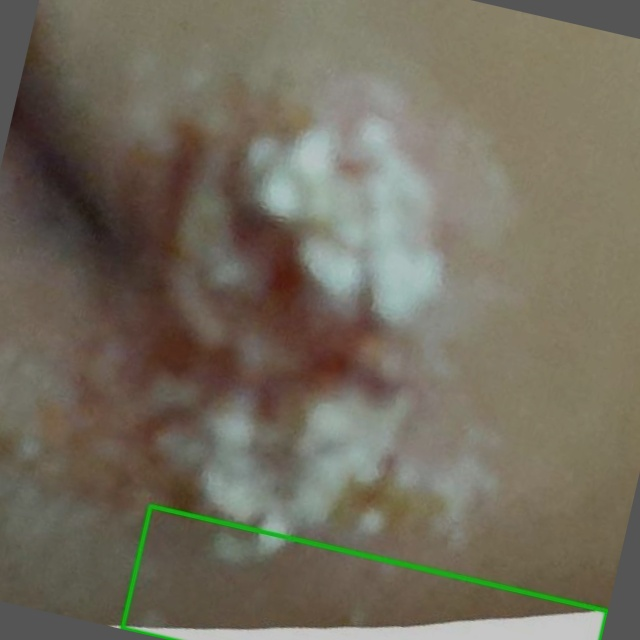Eczema: (122, 506, 607, 639)
